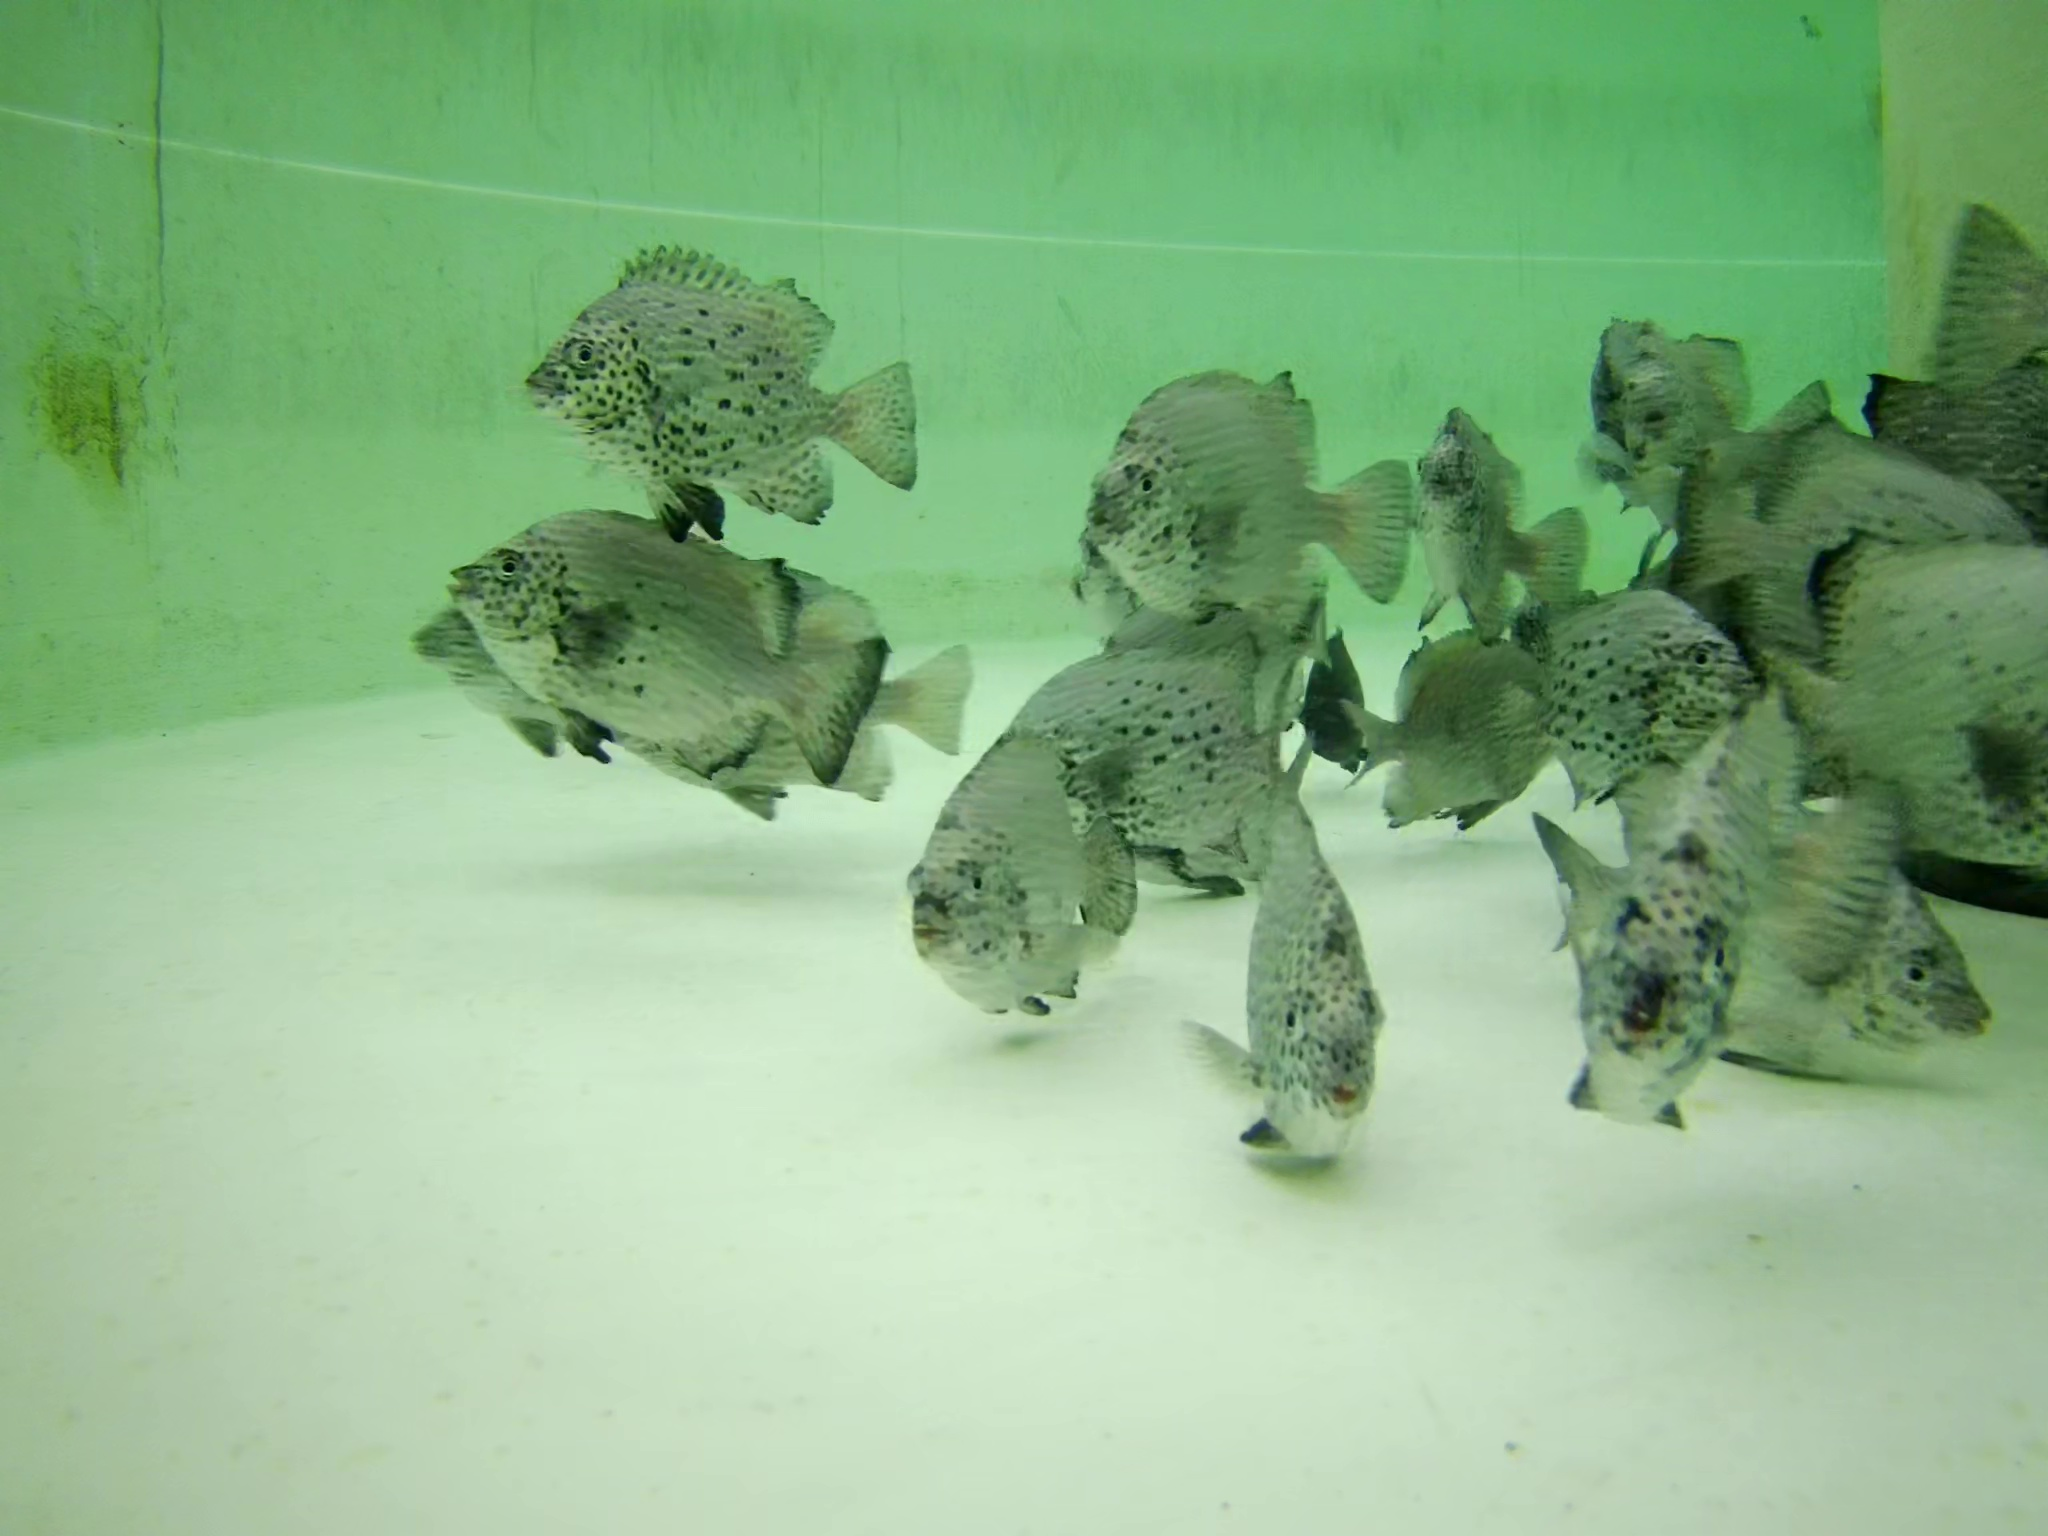fish: (453, 511, 889, 784), (534, 239, 924, 520), (1651, 424, 2048, 662), (1764, 537, 2048, 865), (632, 549, 985, 812), (1666, 803, 1987, 1070), (1087, 353, 1406, 618), (1511, 789, 1750, 1125), (1190, 760, 1387, 1158), (910, 733, 1142, 1028), (1006, 639, 1288, 879), (1614, 745, 1901, 973), (1316, 637, 1558, 821), (403, 561, 616, 768), (1513, 603, 1756, 783), (1397, 413, 1600, 626), (1848, 352, 2048, 544), (1584, 311, 1767, 516), (1069, 520, 1271, 631), (1300, 637, 1371, 789)
